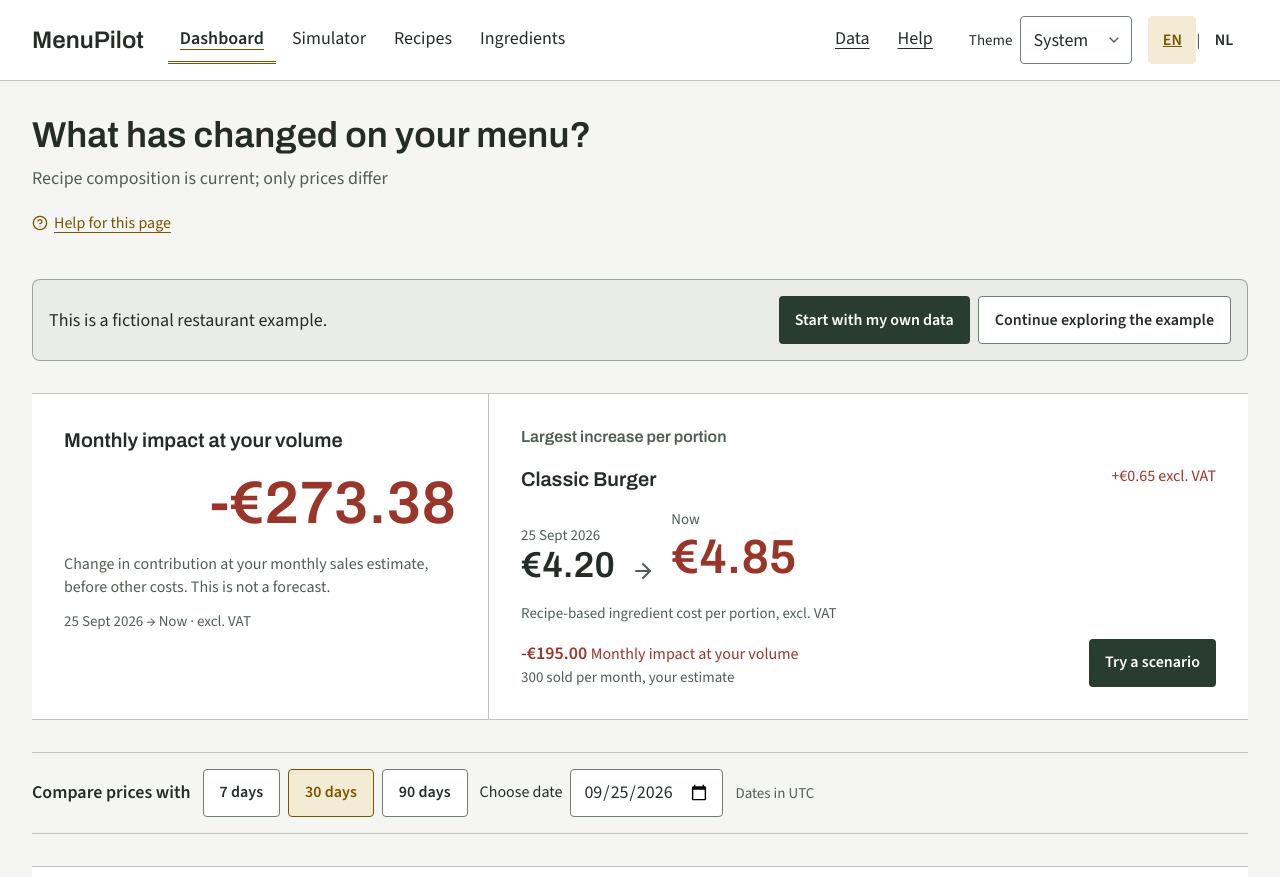
Shell › moves focus to the page content after navigating, and updates the title
Click the link "Ingredients".
click(523, 38)  # box [480,26,565,50]
(page scrolled)
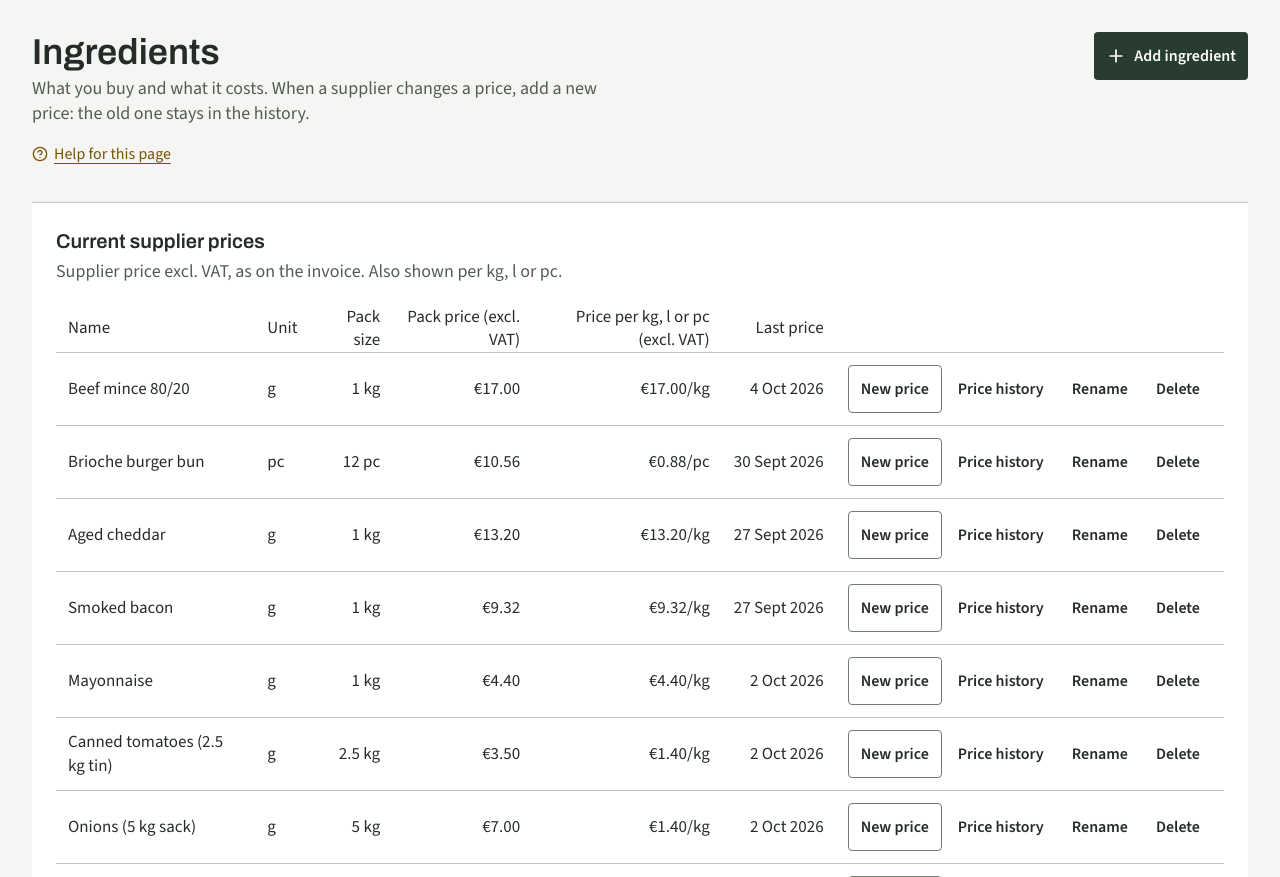
Expected: the heading "Ingredients" is shown, [32,32,220,72]
